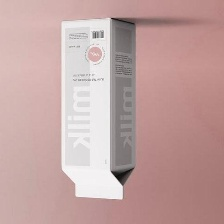carton: (55, 13, 152, 202)
